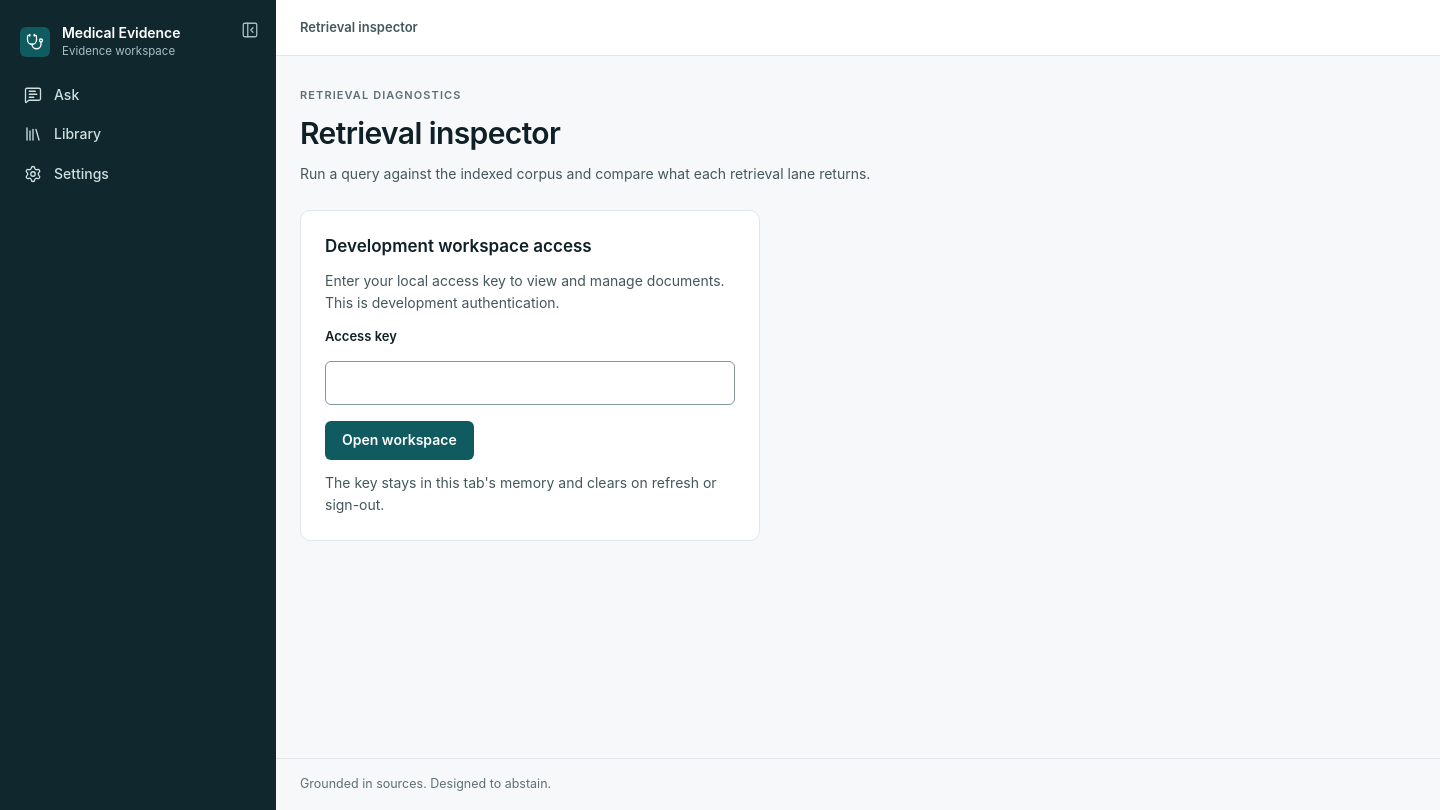
Scenario: reports unavailable reranker without M5 fallback
The width and height of the screenshot is (1440, 810).
Type "test-key" into the password field labelled "Access key" at (530, 383), box [325,361,735,406]
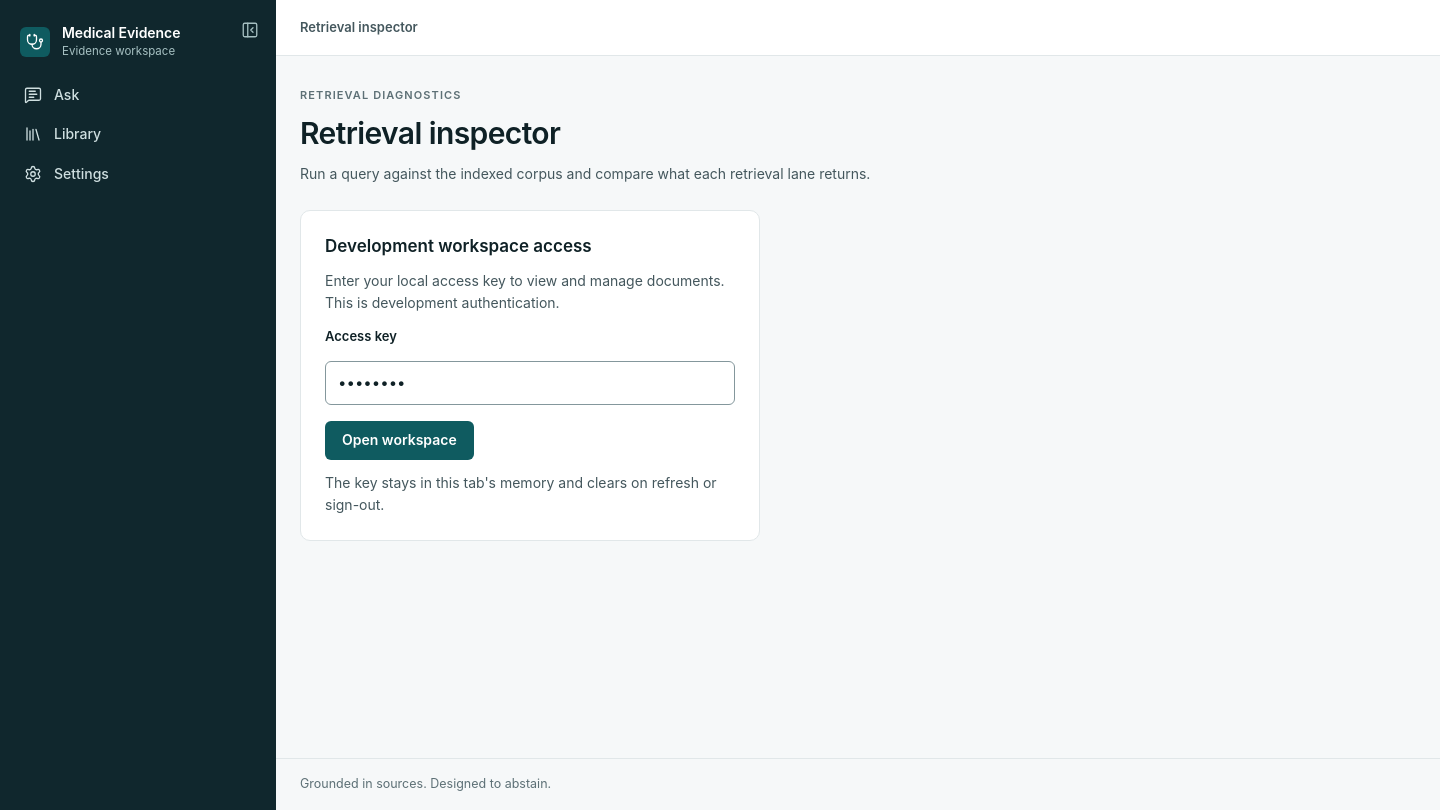
Click the button "Open workspace" at (399, 440), box [325,421,474,460]
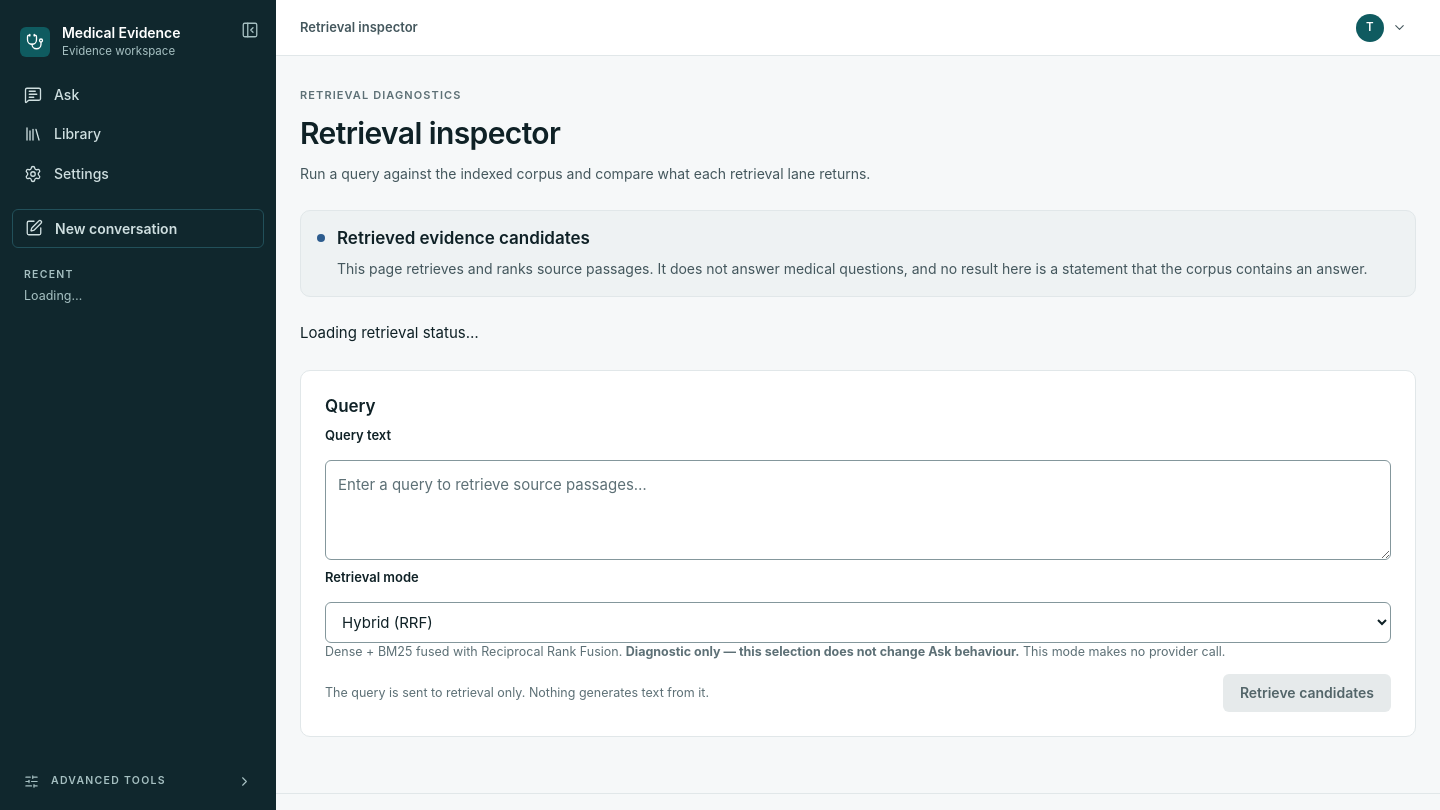
Result: the text box labelled "Query text" is shown at [325,460,1391,560]
Select "Hybrid + reranking + evidence" in the dropdown labelled "Retrieval mode" at (858, 623), box [325,602,1391,643]
(page scrolled)
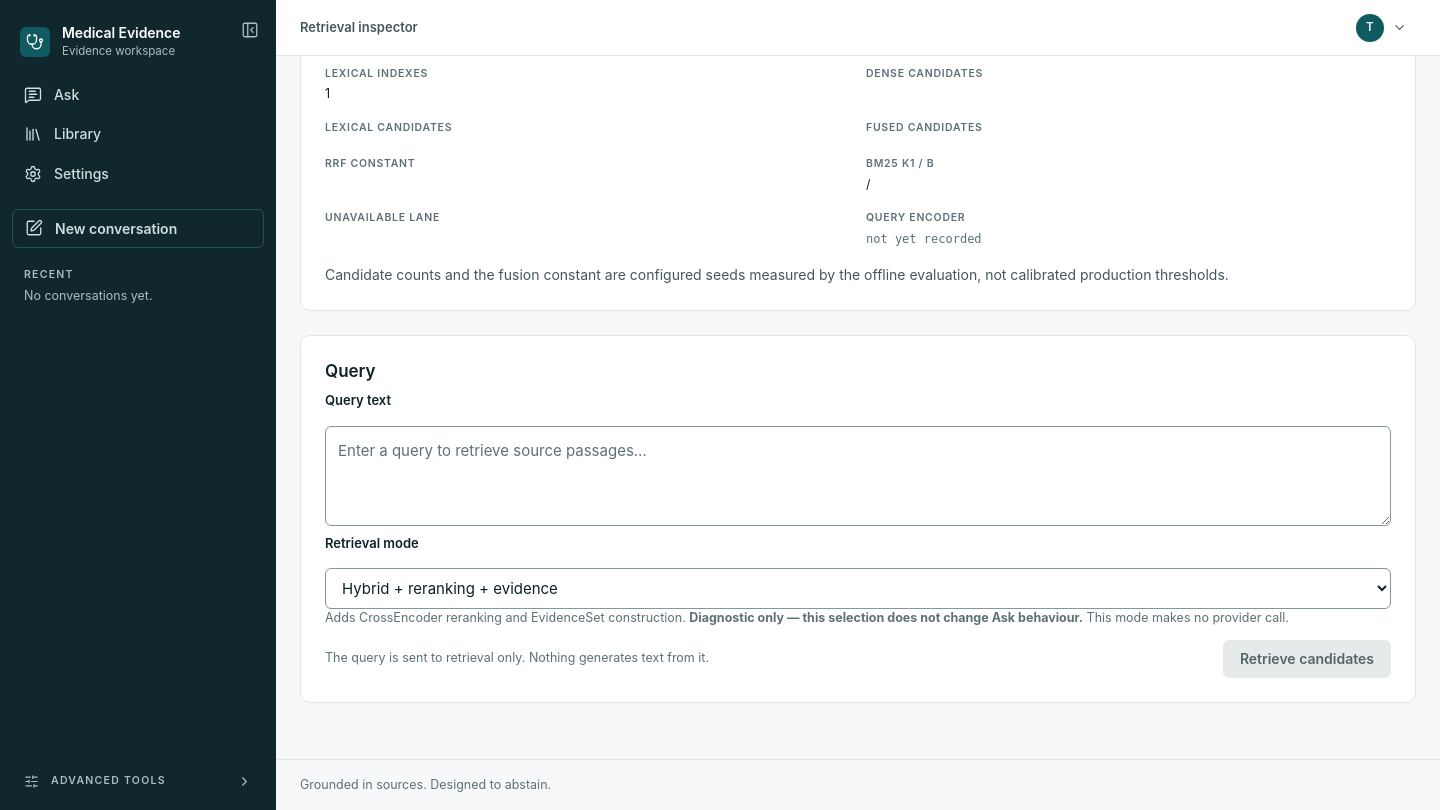
Type "HLA-B27" into the text box labelled "Query text" at (858, 476), box [325,426,1391,526]
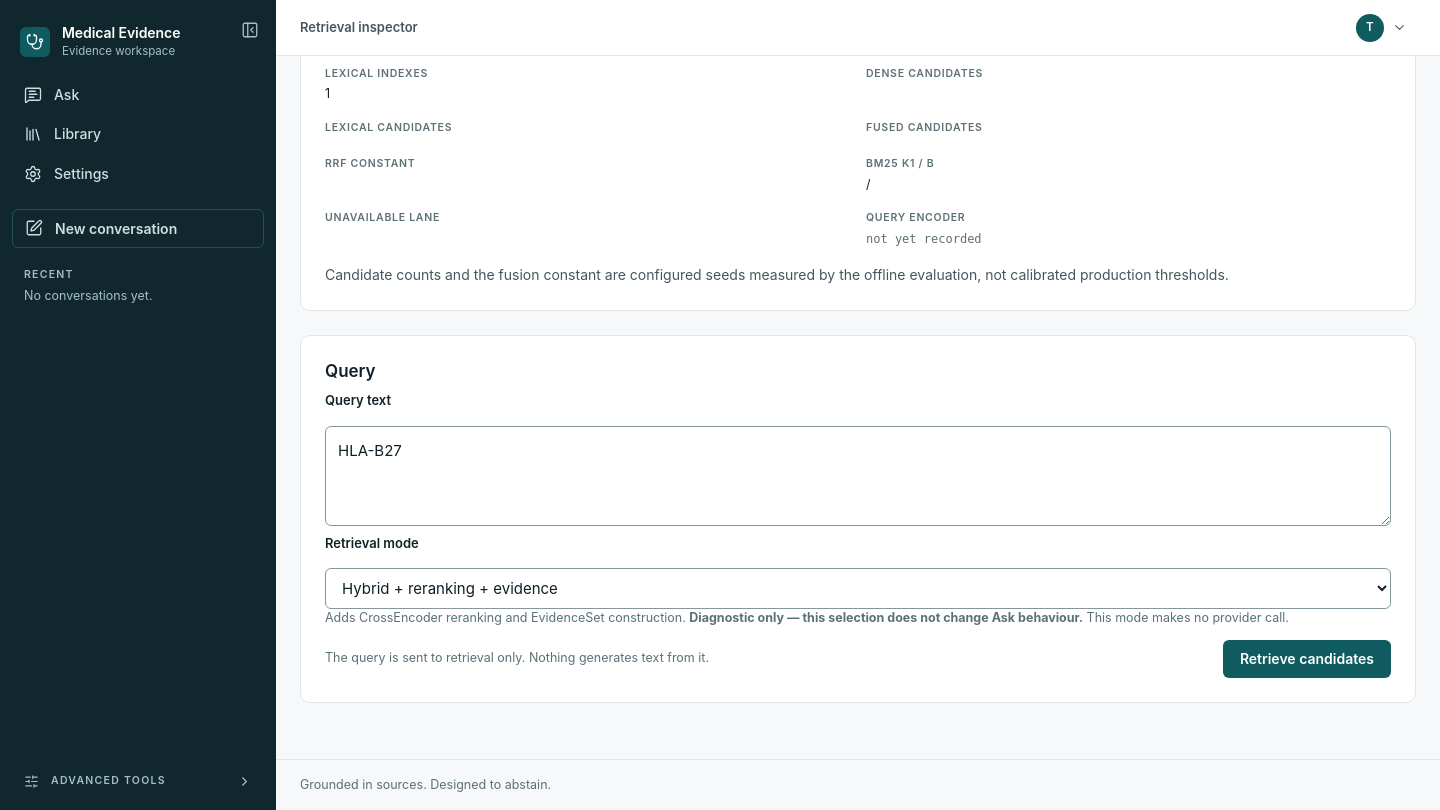
Click the button "Retrieve candidates" at (1307, 659), box [1223,640,1391,678]
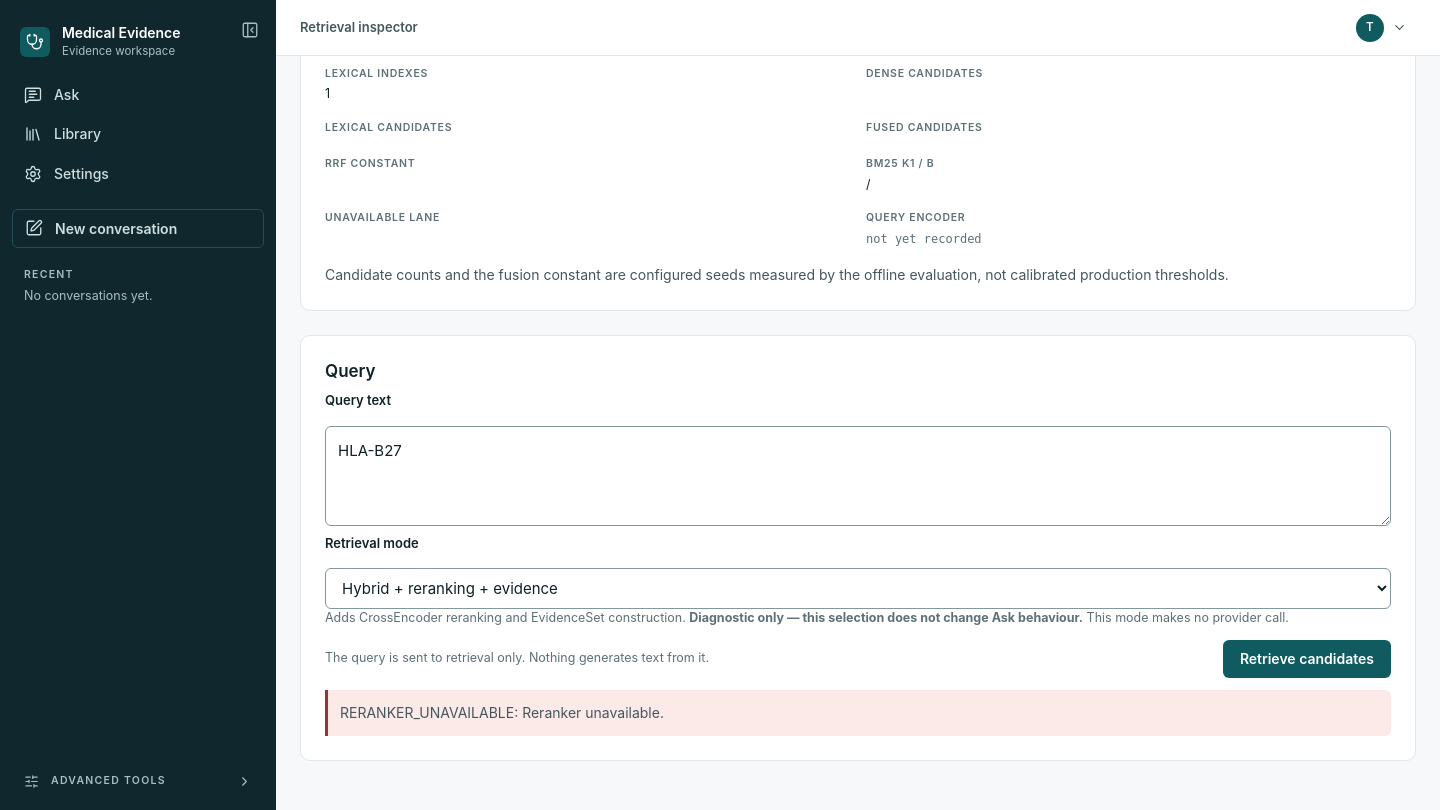
Result: the message shows "RERANKER_UNAVAILABLE" at [340,704,514,721]
